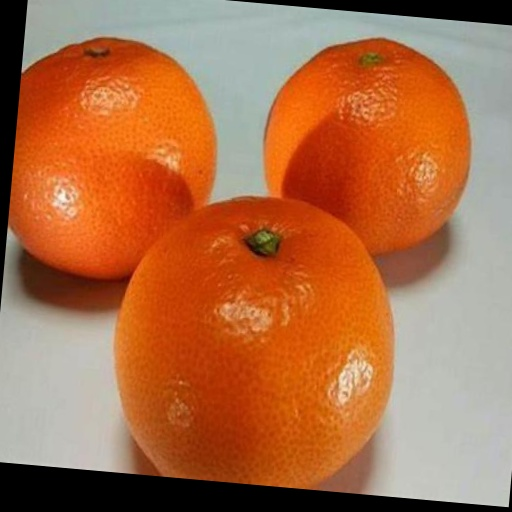fruit: (114, 198, 392, 488), (8, 38, 215, 278), (264, 39, 470, 253)
